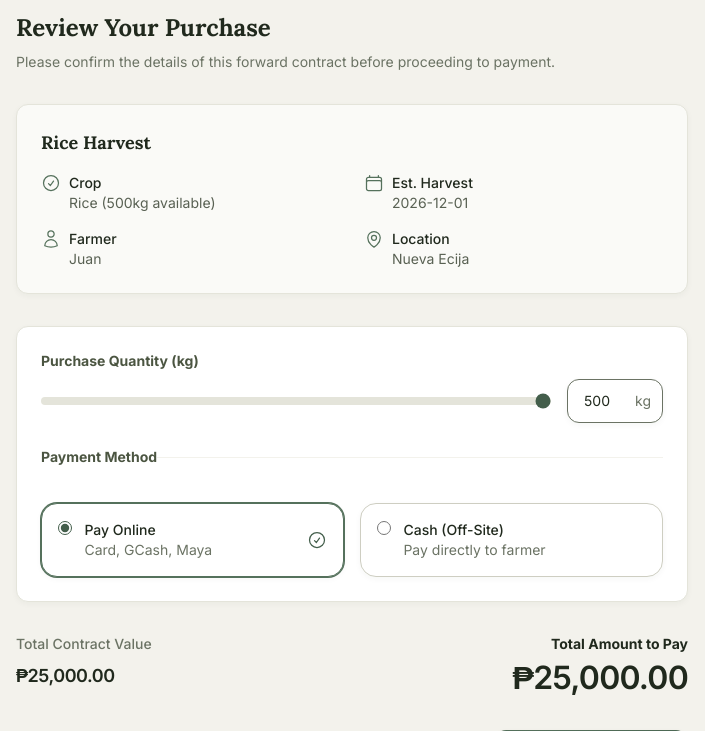
Test case: CheckoutSummary.vue quantity cap › caps the purchase quantity display at 8 characters
Replace the text in the number field labelled "Purchase Quantity (kg)" with "123456789": (615,401) [567,379,663,423]
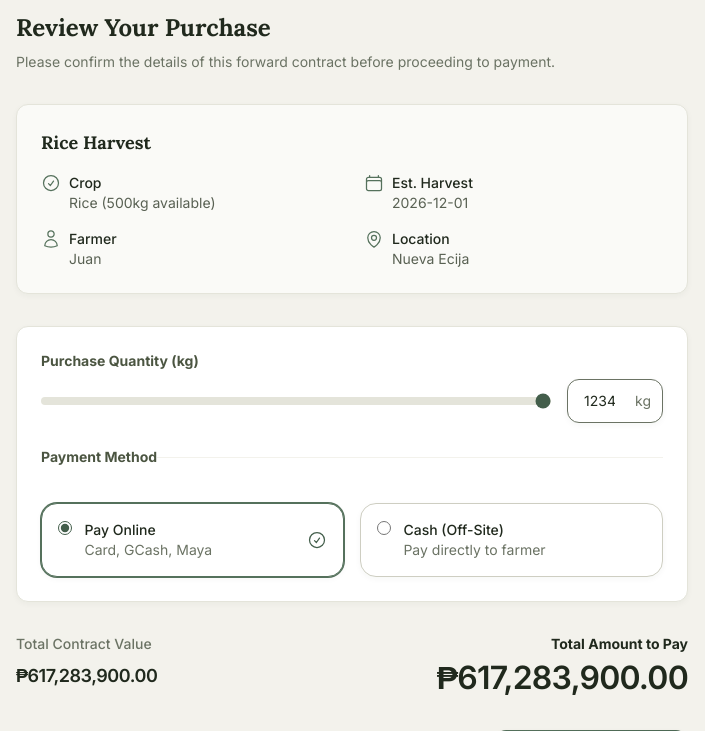
expect the number field labelled "Purchase Quantity (kg)" holds "12345678": met, box [567,379,663,423]
